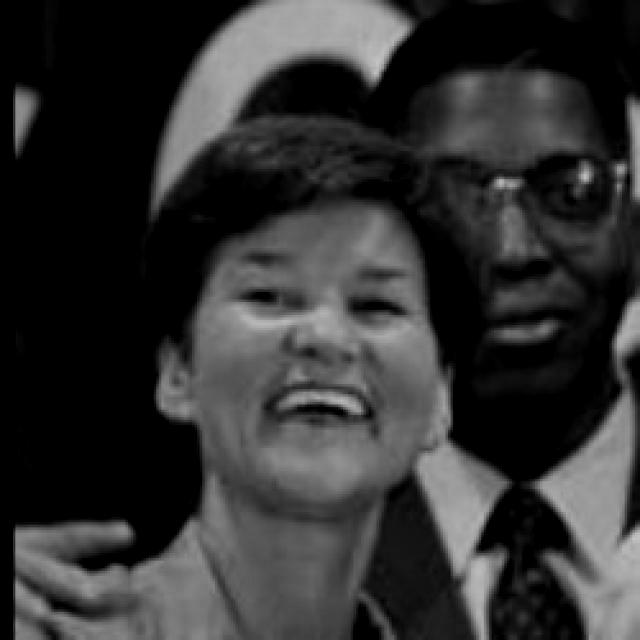fake: (444, 143, 625, 222)
real: (387, 14, 634, 404), (176, 151, 422, 507), (235, 273, 395, 332)
